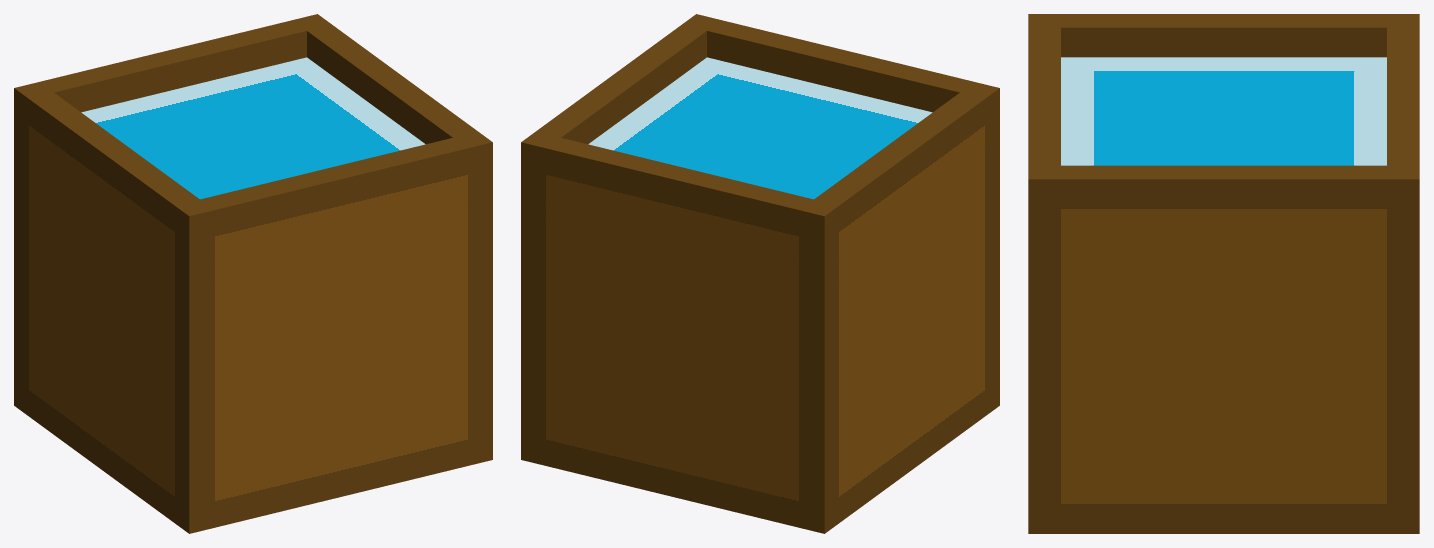
Rendered from block_water.fbx.
The picture shows the model from 3 angles, left to right: view 1: azimuth 30°, elevation 25°; view 2: azimuth 150°, elevation 25°; view 3: azimuth 270°, elevation 25°; orthographic projection. The views are drawn at different scales.
Parts seen in each view (by area): view 1: block_water_bottom, block_water_top; view 2: block_water_bottom, block_water_top; view 3: block_water_bottom, block_water_top.
Part boxes in pixels (x1,y1,x2,y2): block_water_bottom: [14, 141, 492, 533]; block_water_top: [14, 14, 492, 269]; block_water_bottom: [521, 141, 999, 533]; block_water_top: [521, 14, 999, 269]; block_water_bottom: [1028, 238, 1419, 533]; block_water_top: [1028, 14, 1419, 238].
Bounding box in the file's own units: 12 × 12 × 12.
